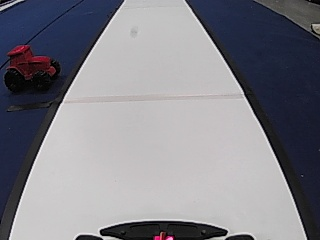tractor: (2, 42, 60, 93)
